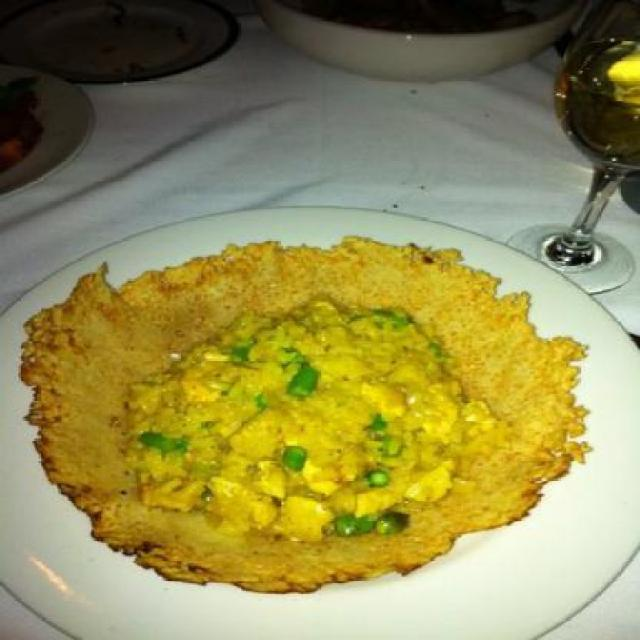Risotto: (124, 310, 478, 528)
